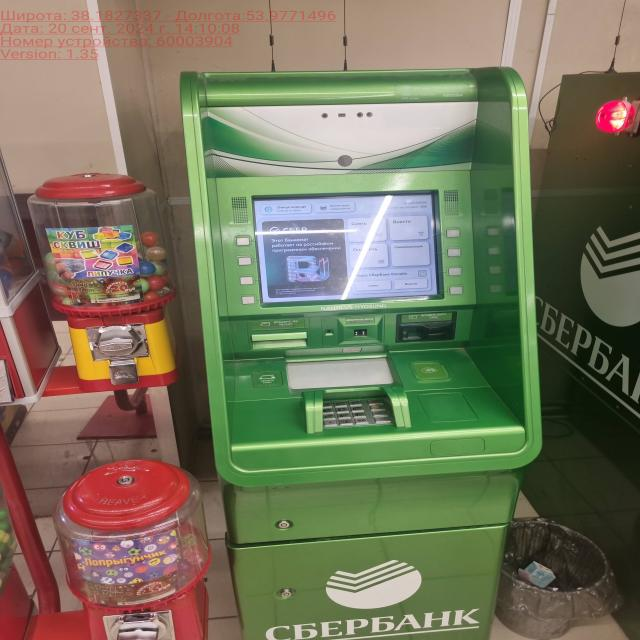bank: (178, 62, 543, 640), (526, 66, 640, 640)
